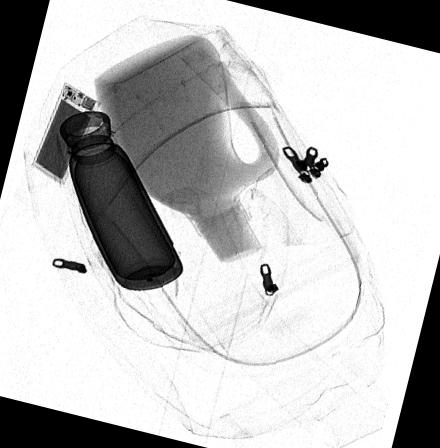Powerbank: (30, 79, 102, 183)
